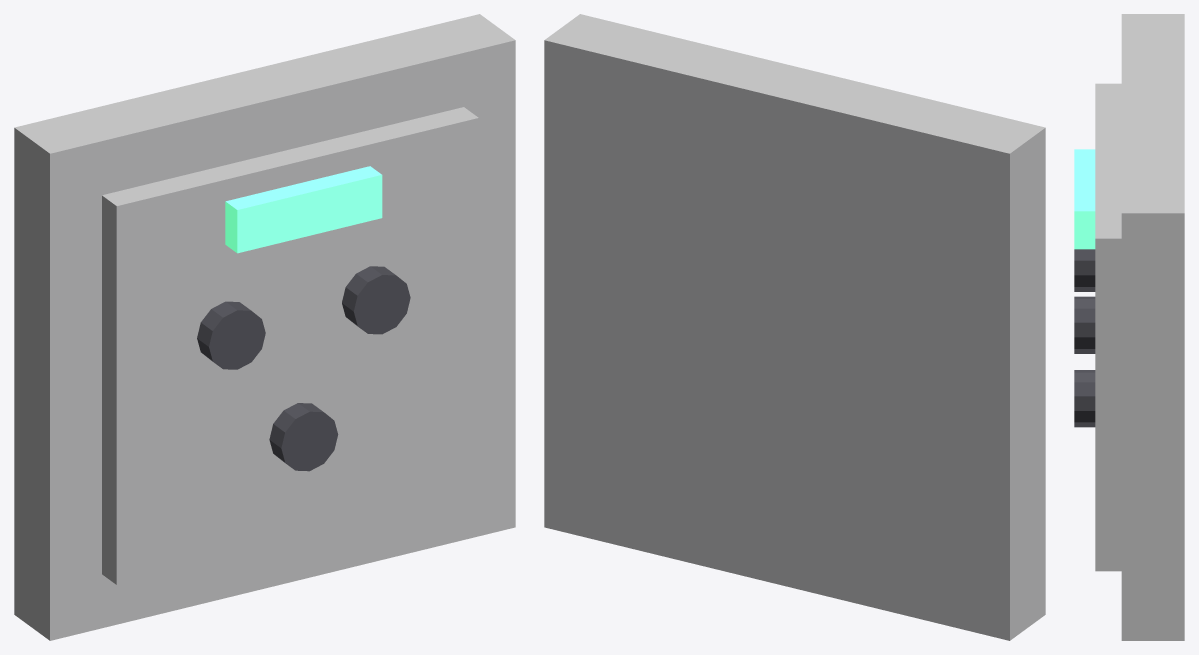
File: tomada.glb
3 views of the same model, side by side, from view 1: azimuth 30°, elevation 25°; view 2: azimuth 150°, elevation 25°; view 3: azimuth 270°, elevation 25° (orthographic). The views are drawn at different scales.
Parts seen in each view (by area): view 1: Tomada, Marc-tomada; view 2: Tomada; view 3: Tomada, Marc-tomada.
Part boxes in pixels (x1,y1,x2,y2): Tomada: (14,14,515,640); Marc-tomada: (225,166,382,253); Tomada: (544,14,1045,640); Tomada: (1074,14,1184,640); Marc-tomada: (1074,149,1095,249).
Bounding box in the file's own units: 0.09 × 0.09 × 0.021.
